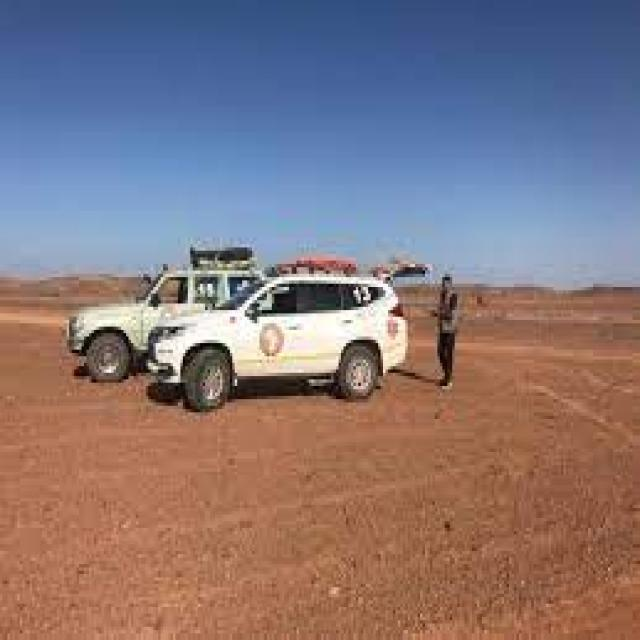ambulance: (144, 248, 414, 452)
